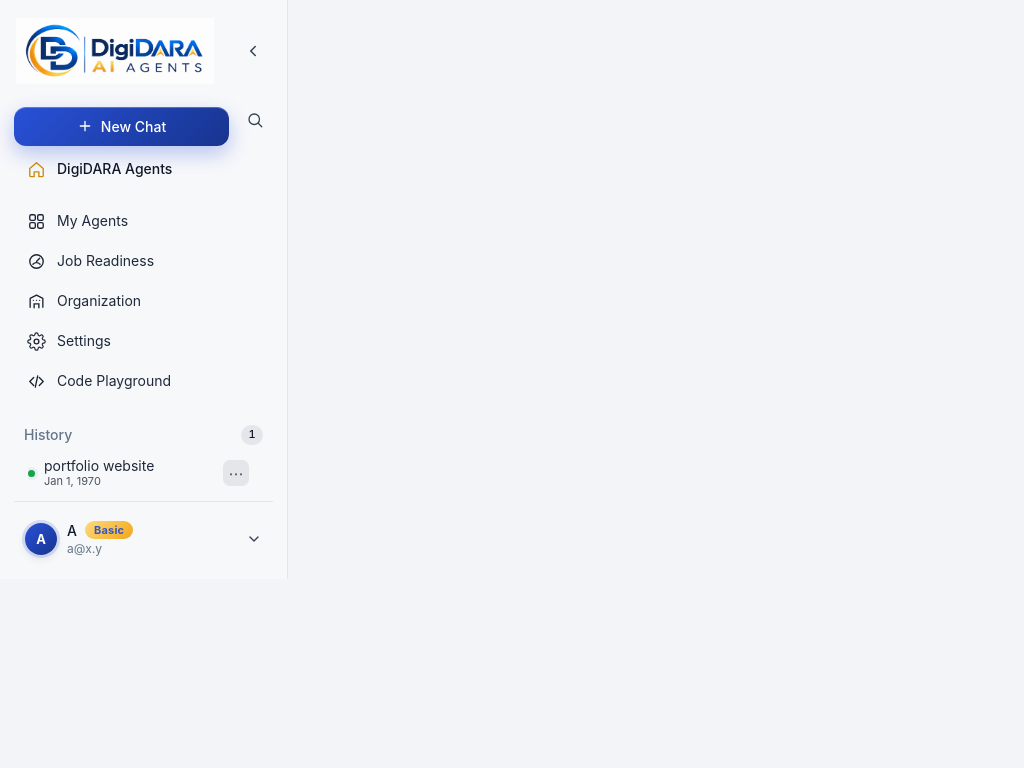
it: Sidebar: delete chat › Delete asks first, names the chat, and only deletes on confirm
Click the button named "Chat options" at point(236, 473), box [223,460,249,486]
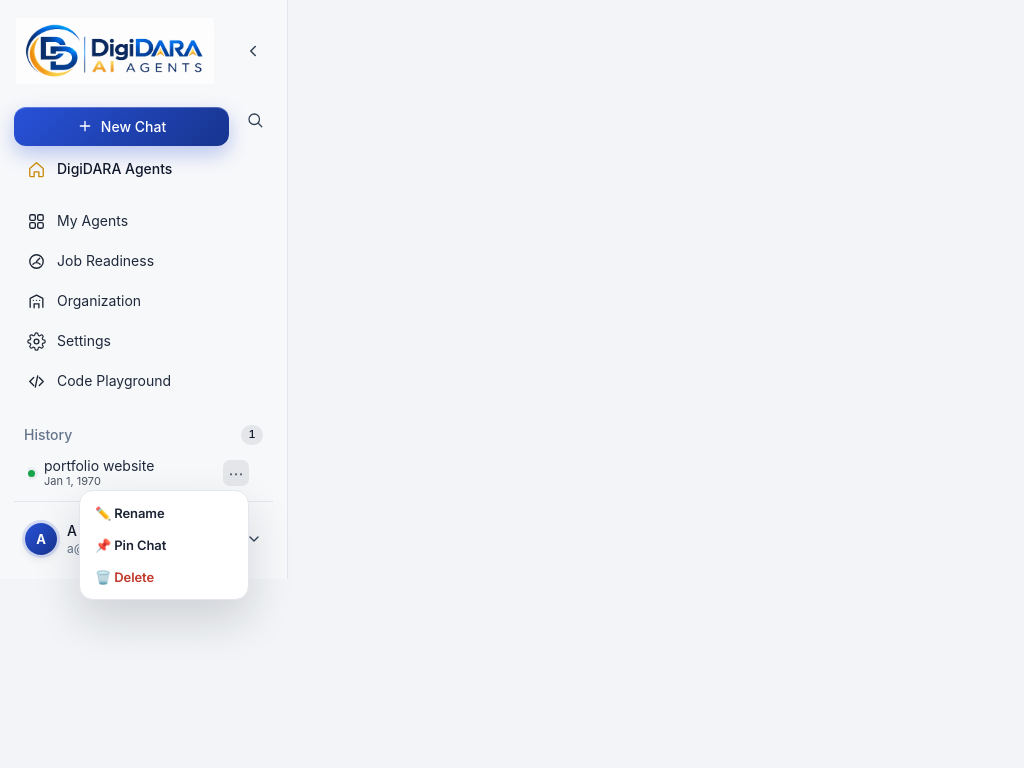
Click the menu item "🗑️ Delete" at point(164, 577), box [86,561,242,593]
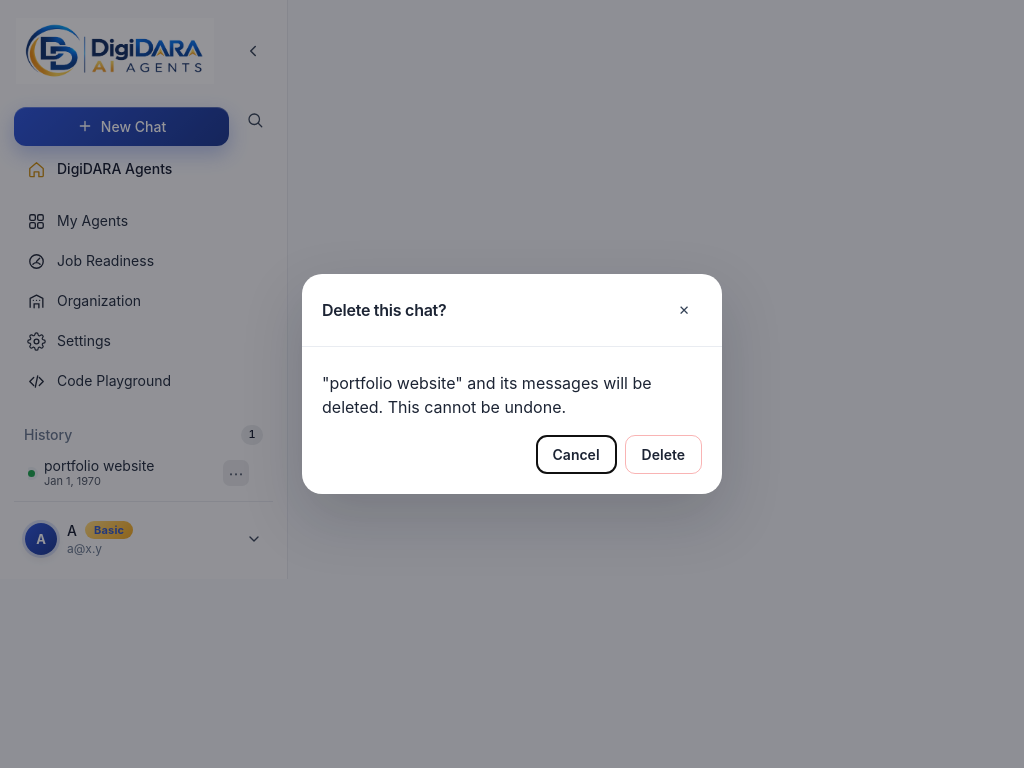
Check: the heading "Delete this chat?" is shown, box [322,300,446,320]
Check: the text "\"portfolio website\" and its messages will be deleted" is shown, box [322,373,652,417]
Click the button "Delete" at point(663, 454), box [625,435,702,474]
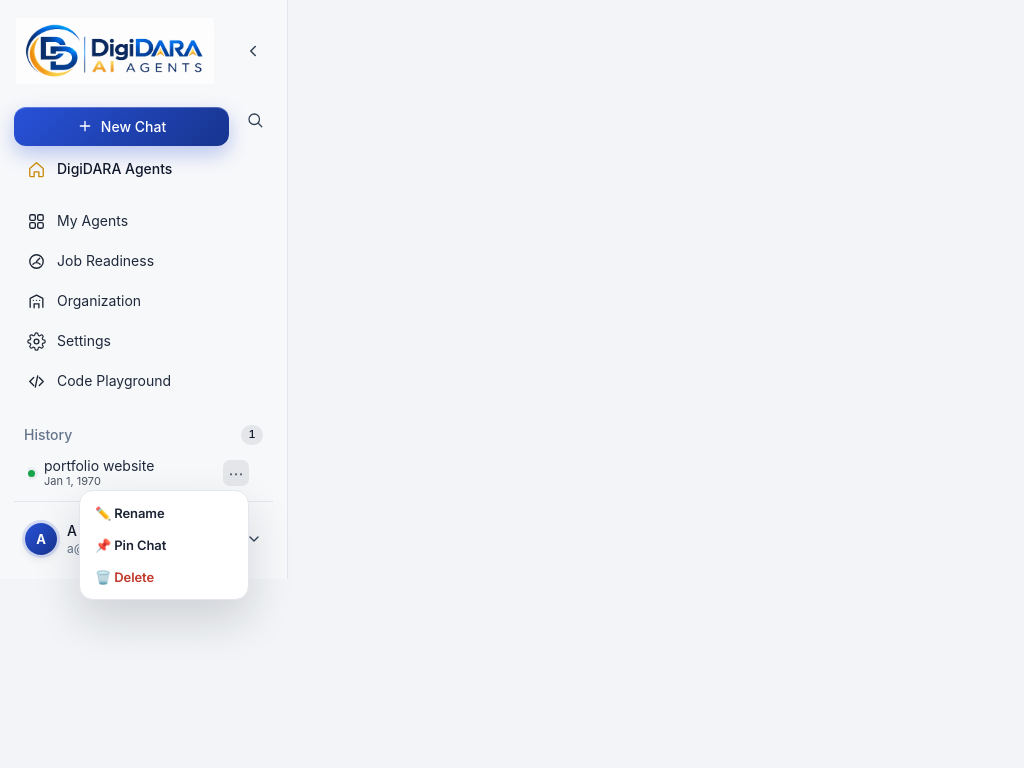
Check: the heading "Delete this chat?" is gone
